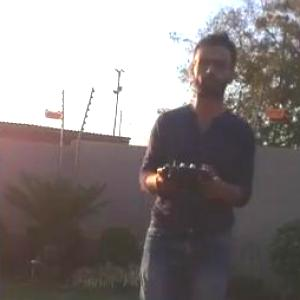follow: (130, 28, 259, 299)
